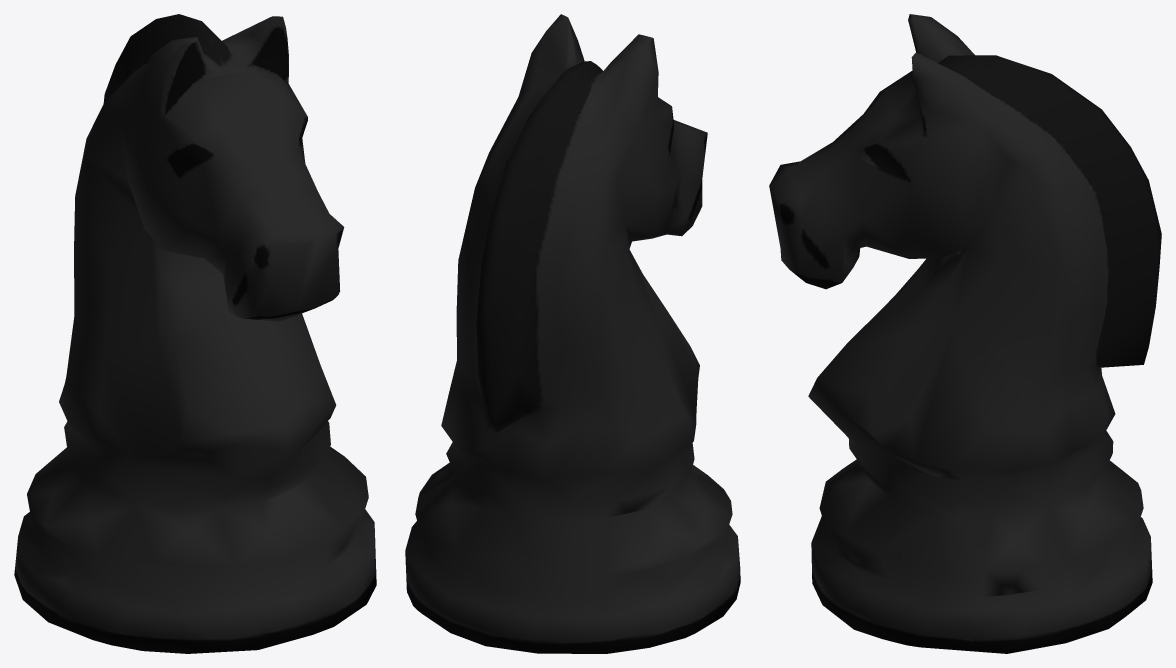
File: chess-knight-black.glb
3 renders of one model, left to right at view 1: azimuth 30°, elevation 25°; view 2: azimuth 150°, elevation 25°; view 3: azimuth 270°, elevation 25°, orthographic. The views are drawn at different scales.
Parts seen in each view (by area): view 1: geometry_0.001; view 2: geometry_0.001; view 3: geometry_0.001.
Part boxes in pixels (left/top/right/bottom): geometry_0.001: left=14, top=14, right=376, bottom=653; geometry_0.001: left=405, top=14, right=740, bottom=653; geometry_0.001: left=769, top=14, right=1161, bottom=653.
Bounding box in the file's own units: 0.5728 × 0.9981 × 0.6459.
Materials: 1 (1 with a texture image).
